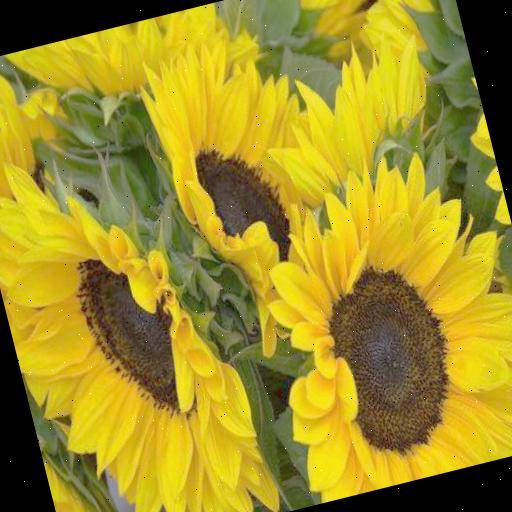sunflower: (0, 119, 283, 512), (241, 138, 512, 504), (132, 28, 342, 296)
